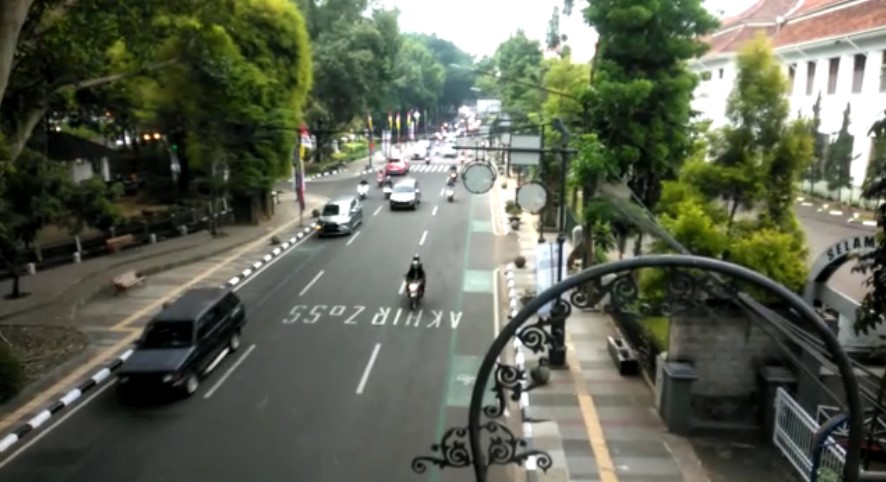mobil: (118, 288, 251, 405), (314, 196, 365, 240), (389, 179, 423, 214)
motor: (396, 255, 433, 306)
